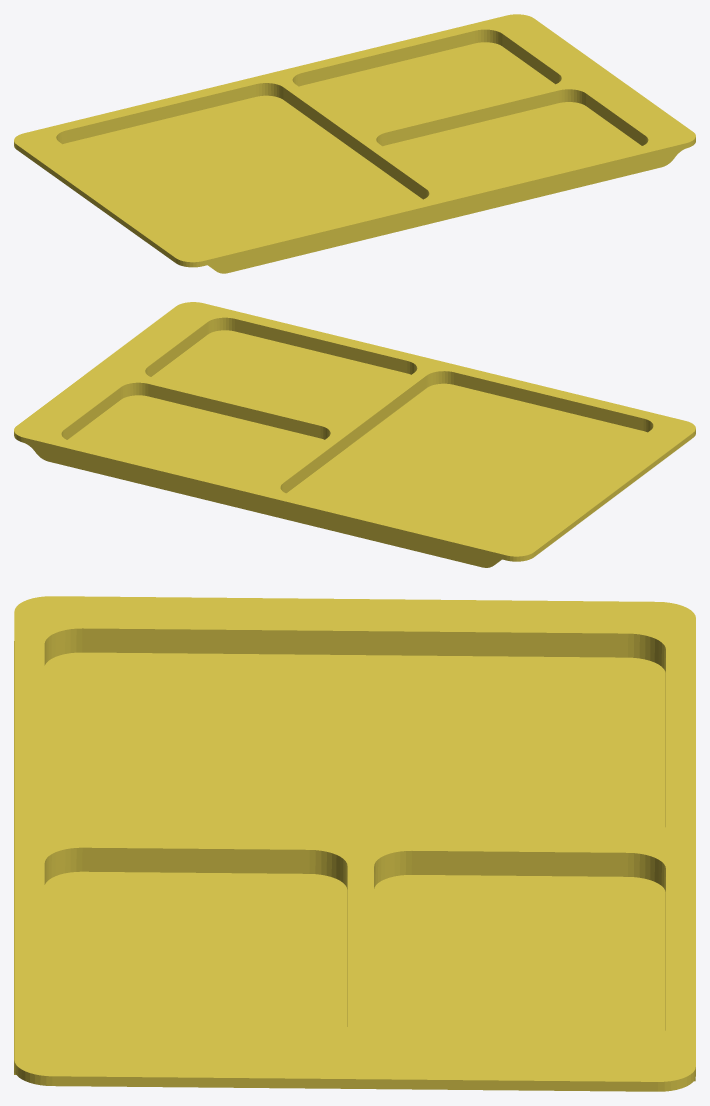
The model's file is Tray1.dae.
The picture shows the model from 3 angles, top to bottom: view 1: azimuth 30°, elevation 25°; view 2: azimuth 150°, elevation 25°; view 3: azimuth 270°, elevation 25°; orthographic projection. The views are drawn at different scales.
Parts seen in each view (by area): view 1: tray; view 2: tray; view 3: tray.
Part boxes in pixels (bbox=[...]): tray: bbox=[14, 14, 695, 273]; tray: bbox=[14, 302, 695, 567]; tray: bbox=[14, 596, 695, 1091].
Size of the model in its own units: 0.03 by 0.018 by 0.00119.
